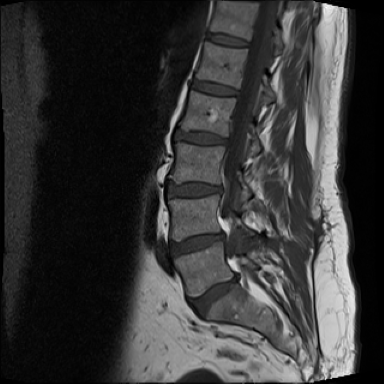Degenerative Disc Disease (DDD): (165, 224, 228, 265)
Lumbar Disc Bulge (LDB): (179, 264, 249, 326)
Normal IVD: (154, 176, 225, 204), (184, 70, 242, 103), (171, 122, 228, 151), (200, 29, 250, 51)
